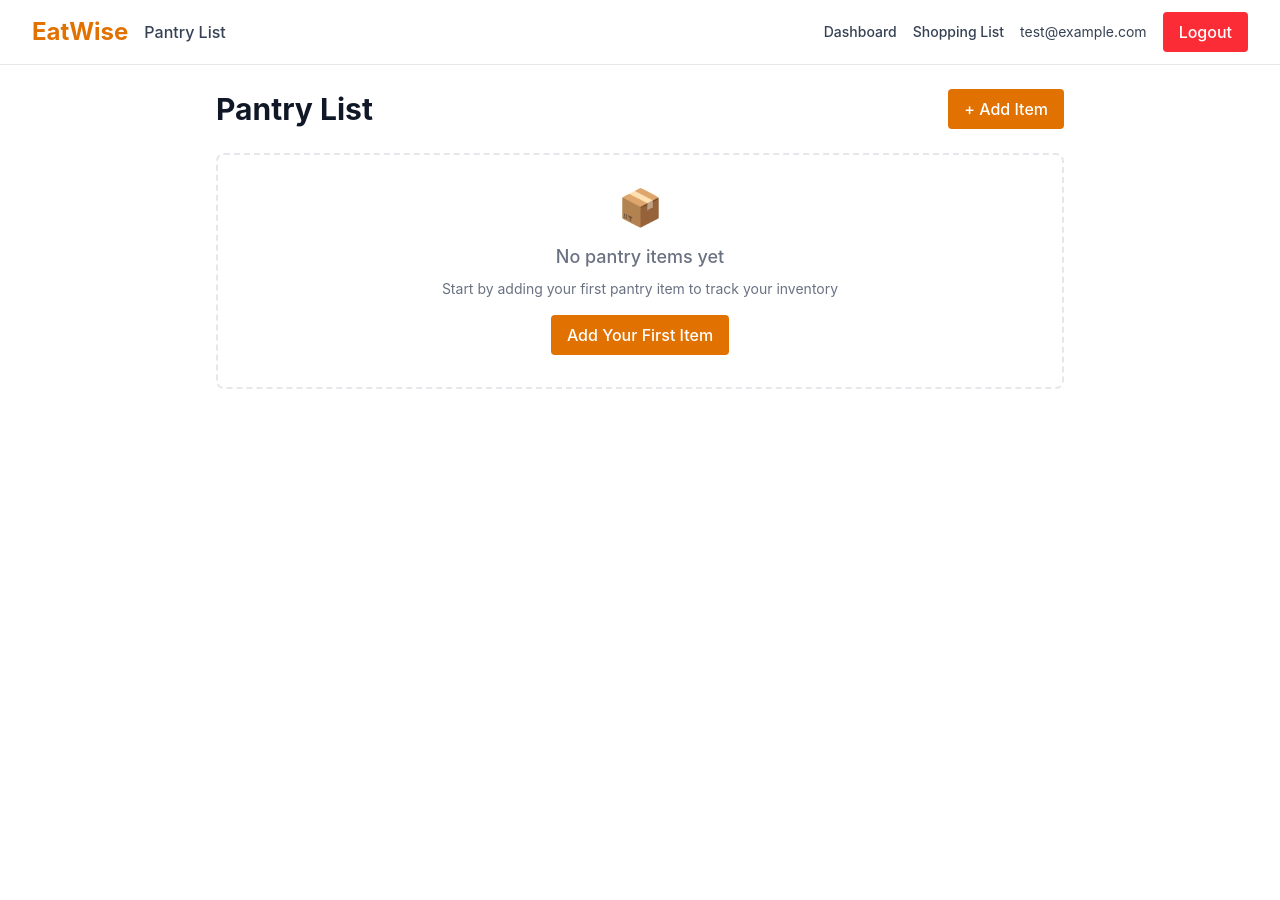
Test: PantryList › should show add item form when button is clicked
Click the button "+ Add Item": (1006, 109) [948,89,1064,129]
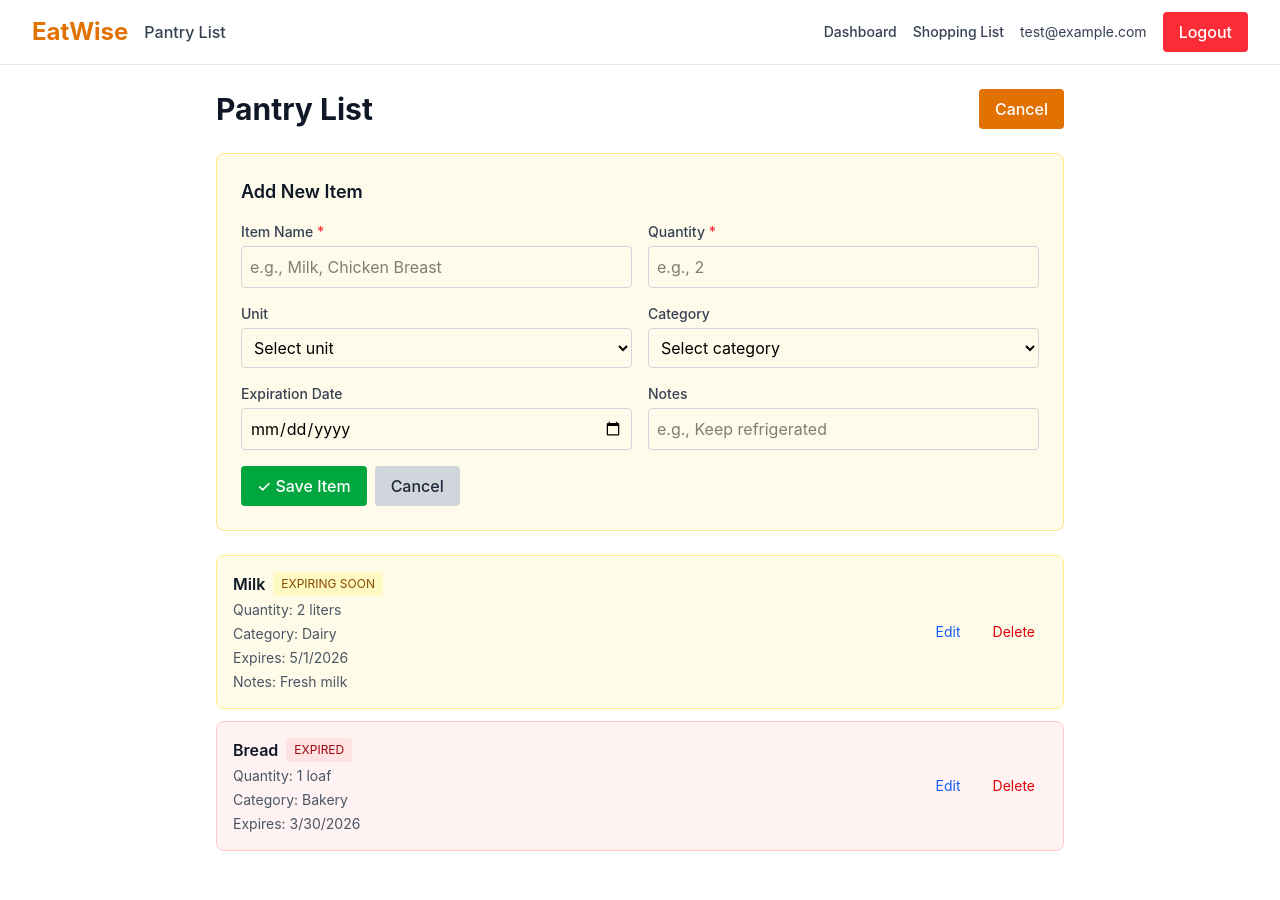
Expected: the field with placeholder "e.g., Milk, Chicken Breast" is shown, [241,246,632,288]
Expected: the number field with placeholder "e.g., 2" is shown, [648,246,1039,288]
